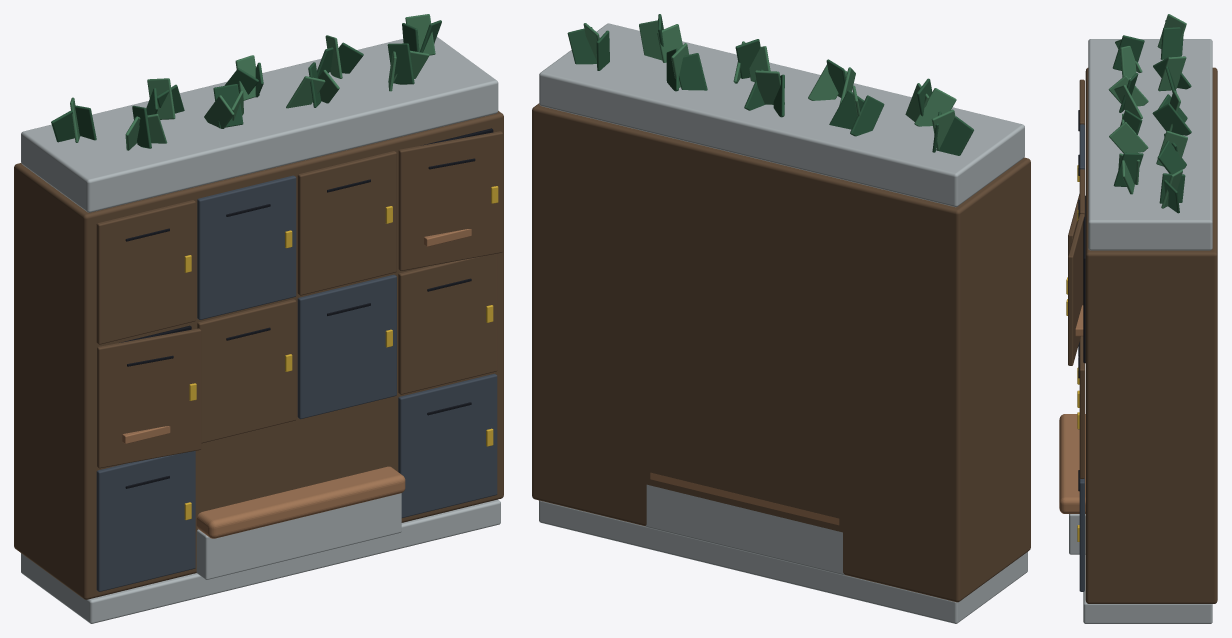
File: campus-lockers-slate.glb
3 views of the same model, side by side, from view 1: azimuth 30°, elevation 25°; view 2: azimuth 150°, elevation 25°; view 3: azimuth 270°, elevation 25° (orthographic). The views are drawn at different scales.
Bounding box in the file's own units: 1.85 × 2.03 × 0.66.
